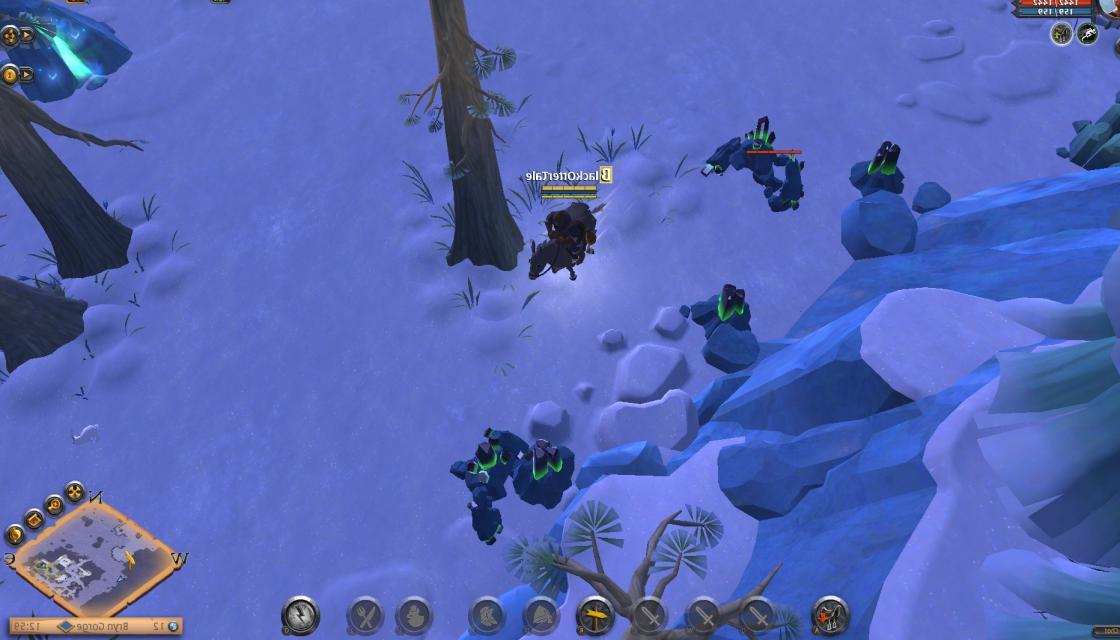sandstone: (1054, 107, 1120, 178), (1098, 80, 1120, 114)
tinore: (510, 434, 584, 502), (848, 132, 916, 200), (688, 284, 762, 334)
